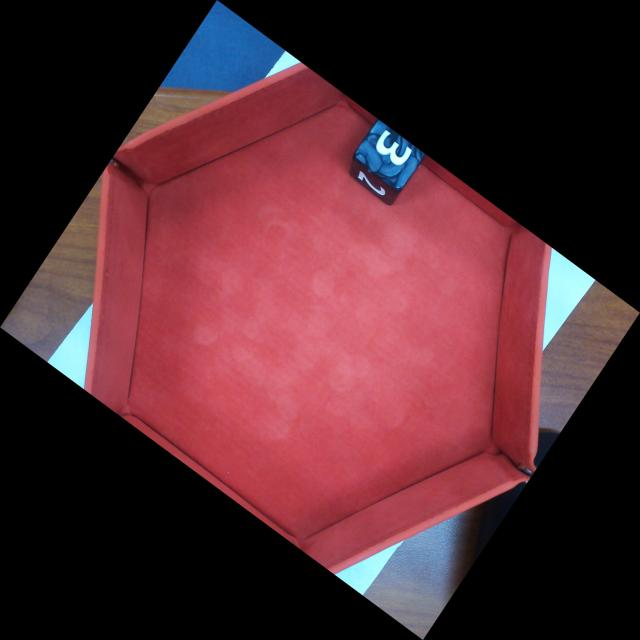dice: (357, 120, 419, 186)
